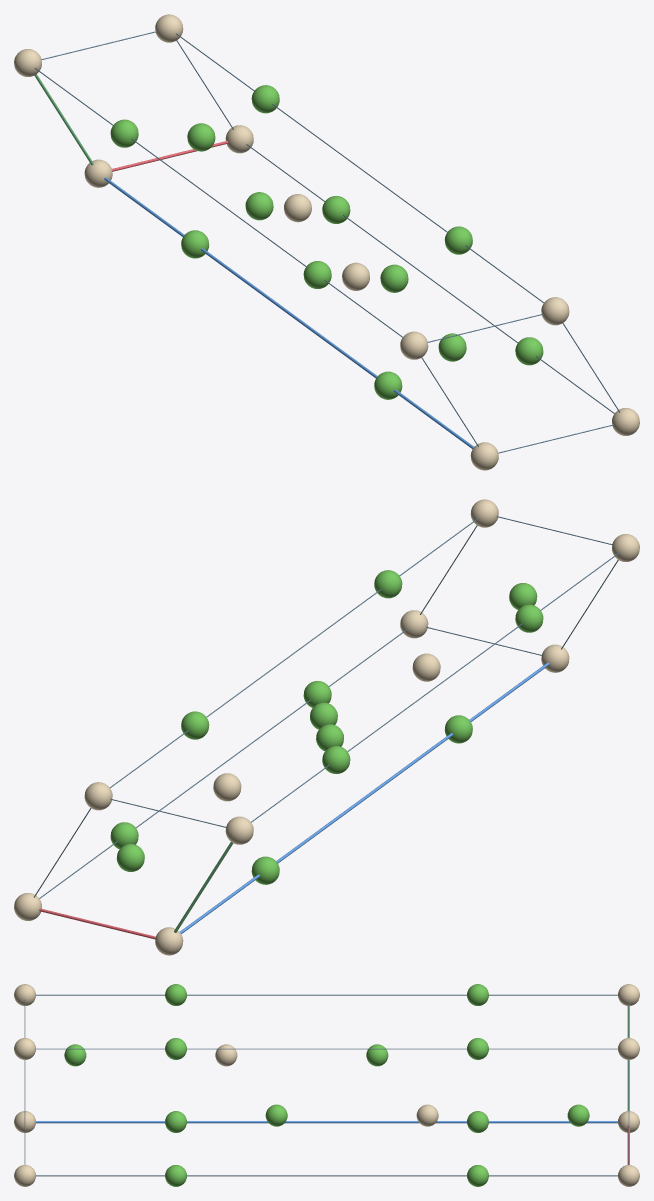
Rendered from chat-manganese-chloride.glb.
3 views of the same model, one above another, from view 1: azimuth 30°, elevation 25°; view 2: azimuth 150°, elevation 25°; view 3: azimuth 270°, elevation 25° (orthographic). The views are drawn at different scales.
Visible parts, largest first — view 1: Cl · Cl · 1 (×10), Mn · Mn · 1 (×9), Ô mạng và các trục a, b, c; view 2: Mn · Mn · 1 (×10), Ô mạng và các trục a, b, c, Cl · Cl · 1 (×5); view 3: Ô mạng và các trục a, b, c, Cl · Cl · 1 (×12), Mn · Mn · 1 (×10).
Boxes of the visible parts, bbox=[...] form: Cl · Cl · 1 (×10): bbox=[110, 85, 543, 365]; Mn · Mn · 1 (×9): bbox=[14, 14, 639, 470]; Ô mạng và các trục a, b, c: bbox=[34, 31, 620, 453]; Mn · Mn · 1 (×10): bbox=[14, 499, 639, 955]; Ô mạng và các trục a, b, c: bbox=[33, 516, 619, 939]; Cl · Cl · 1 (×5): bbox=[116, 570, 543, 871]; Ô mạng và các trục a, b, c: bbox=[24, 994, 629, 1176]; Cl · Cl · 1 (×12): bbox=[64, 984, 589, 1186]; Mn · Mn · 1 (×10): bbox=[14, 984, 639, 1186].
Bounding box in the file's own units: 6.17 × 3.83 × 18.11.
